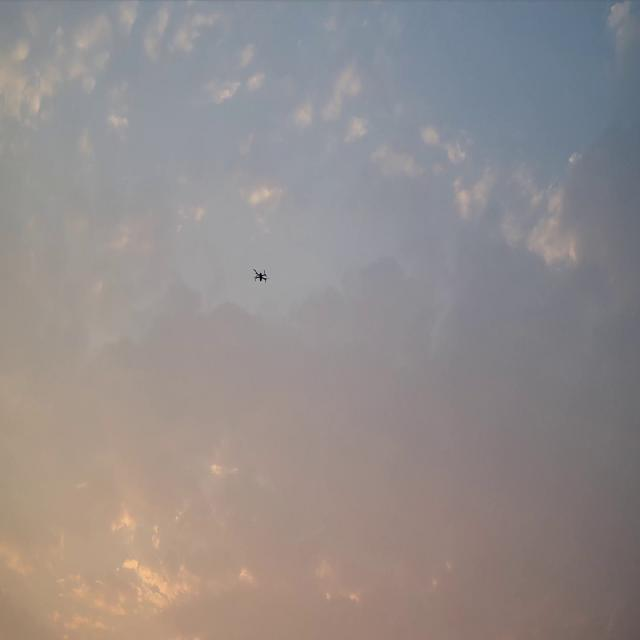drone: (253, 268, 269, 283)
